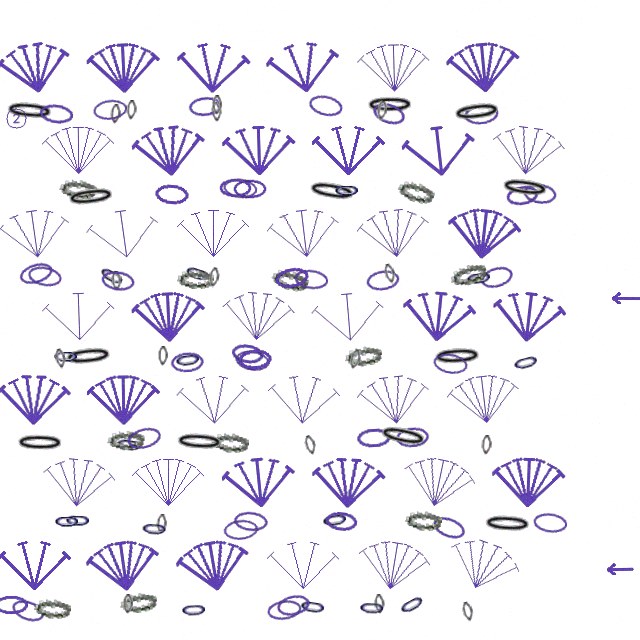chain: (377, 422, 429, 451), (306, 178, 358, 205), (451, 99, 503, 125), (65, 184, 117, 210), (499, 175, 551, 201), (63, 344, 114, 369), (448, 259, 489, 290), (4, 99, 55, 123), (432, 345, 483, 368), (430, 513, 468, 543), (9, 596, 47, 626), (174, 431, 225, 453), (482, 513, 533, 535), (396, 178, 436, 206), (370, 99, 408, 128), (17, 259, 55, 288), (125, 424, 163, 452), (270, 267, 310, 293), (478, 263, 515, 291), (95, 261, 129, 291), (395, 589, 429, 619), (344, 343, 383, 369), (365, 95, 415, 115), (15, 433, 65, 453), (307, 92, 344, 119), (119, 590, 158, 615), (275, 592, 312, 618), (26, 264, 63, 289), (273, 265, 310, 290), (234, 348, 271, 373), (432, 351, 469, 376), (463, 102, 500, 126), (266, 598, 303, 622), (505, 183, 540, 208), (38, 102, 74, 126), (100, 269, 136, 293), (182, 260, 214, 287), (365, 268, 401, 292), (532, 511, 568, 535), (230, 342, 265, 366), (59, 178, 97, 200), (107, 429, 145, 451), (510, 349, 542, 375), (92, 98, 128, 121), (222, 177, 258, 200), (522, 182, 558, 205), (293, 268, 329, 291), (223, 518, 259, 541), (188, 95, 223, 118), (233, 510, 268, 533), (324, 510, 359, 533), (212, 432, 249, 453), (405, 510, 442, 531), (34, 598, 71, 619), (154, 183, 189, 205), (237, 348, 272, 370), (356, 427, 391, 449), (395, 426, 430, 448), (170, 351, 204, 373), (177, 269, 214, 289), (464, 266, 494, 289), (173, 348, 203, 371), (114, 433, 144, 456), (320, 508, 350, 531), (298, 595, 328, 618), (233, 179, 267, 199), (219, 178, 252, 198), (140, 518, 169, 539), (180, 599, 208, 620), (358, 597, 386, 618), (333, 180, 361, 200), (52, 346, 80, 366), (64, 510, 92, 530), (53, 511, 81, 531), (0, 595, 28, 615), (303, 434, 318, 456), (383, 263, 397, 284), (348, 349, 362, 370), (461, 601, 475, 622), (54, 348, 67, 369), (376, 100, 388, 121), (208, 267, 220, 288), (110, 104, 121, 124), (126, 100, 137, 120), (211, 102, 222, 122), (111, 271, 122, 291), (481, 435, 492, 455), (156, 514, 167, 534), (374, 594, 385, 614), (212, 95, 222, 115), (158, 346, 168, 366), (123, 594, 133, 614)
fan: (440, 527, 527, 603), (398, 448, 480, 516), (173, 532, 254, 598), (354, 532, 434, 598), (489, 118, 568, 182), (84, 201, 163, 265), (84, 533, 163, 597), (264, 35, 343, 98), (0, 34, 75, 100), (265, 201, 343, 264), (355, 201, 433, 264), (445, 367, 523, 430), (130, 119, 208, 181), (400, 119, 478, 181), (445, 202, 523, 264), (490, 285, 568, 347), (355, 368, 433, 430), (40, 451, 118, 513), (400, 285, 478, 346), (220, 451, 298, 512), (0, 201, 74, 265), (445, 36, 522, 97), (220, 285, 297, 346), (310, 286, 387, 346), (266, 369, 342, 429), (86, 38, 161, 96), (176, 38, 251, 96), (131, 287, 206, 345), (176, 370, 251, 428), (311, 453, 386, 511), (491, 453, 566, 510), (222, 121, 296, 178), (42, 287, 116, 344), (357, 39, 431, 95), (87, 371, 160, 427), (42, 122, 115, 177), (312, 122, 385, 177), (177, 205, 250, 260), (132, 454, 205, 509), (267, 537, 340, 592), (0, 371, 71, 427), (0, 537, 71, 592)
noise: (4, 106, 28, 130), (609, 292, 640, 304), (604, 563, 634, 575)
